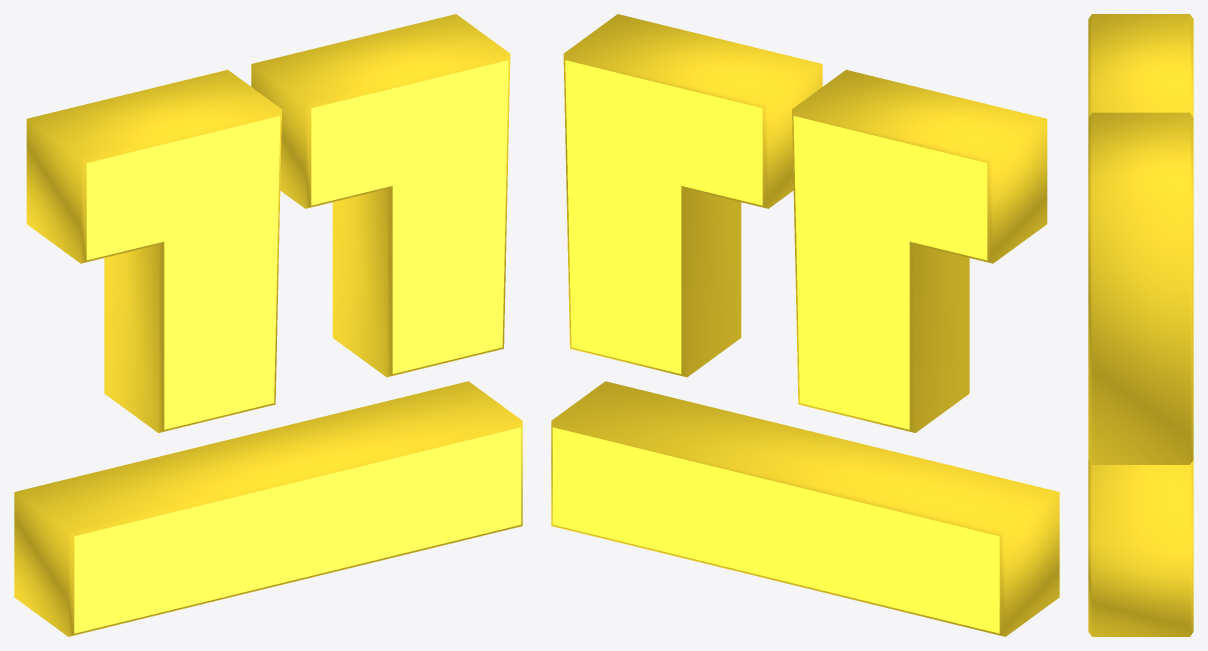
The picture shows the model from 3 angles, left to right: view 1: azimuth 30°, elevation 25°; view 2: azimuth 150°, elevation 25°; view 3: azimuth 270°, elevation 25°; orthographic projection. The views are drawn at different scales.
Parts seen in each view (by area): view 1: glyph; view 2: glyph; view 3: glyph.
Boxes of the visible parts, x1,y1,x2,y2 form: glyph: (14, 14, 522, 636); glyph: (551, 14, 1059, 636); glyph: (1088, 14, 1193, 636).
Bounding box in the file's own units: 0.0726 × 0.0726 × 0.0162.
